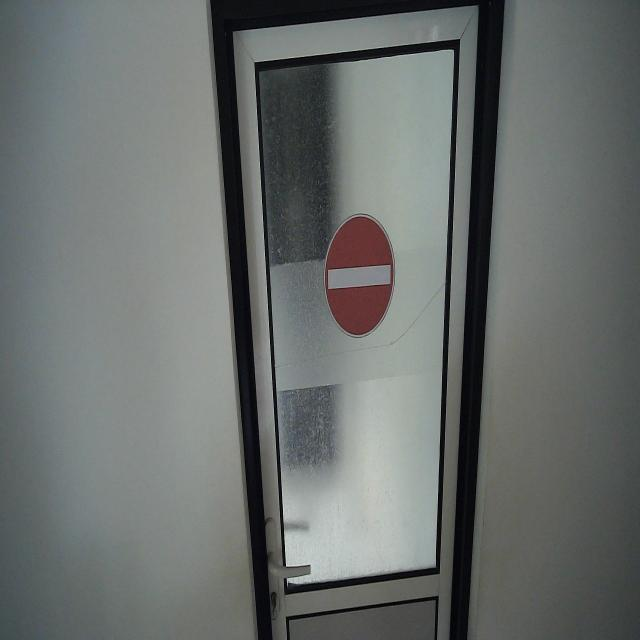no_entry: (324, 211, 396, 339)
